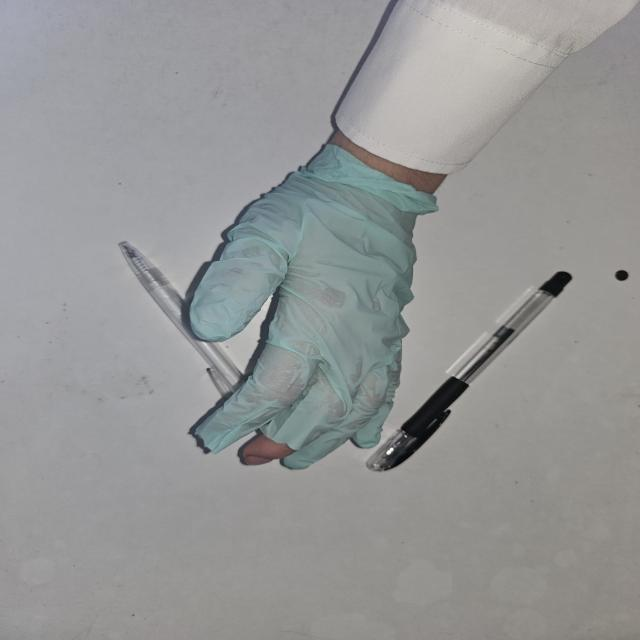gloves_damaged: (181, 141, 442, 470)
